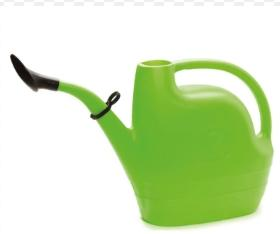ARROSOIR: (5, 2, 279, 228)
